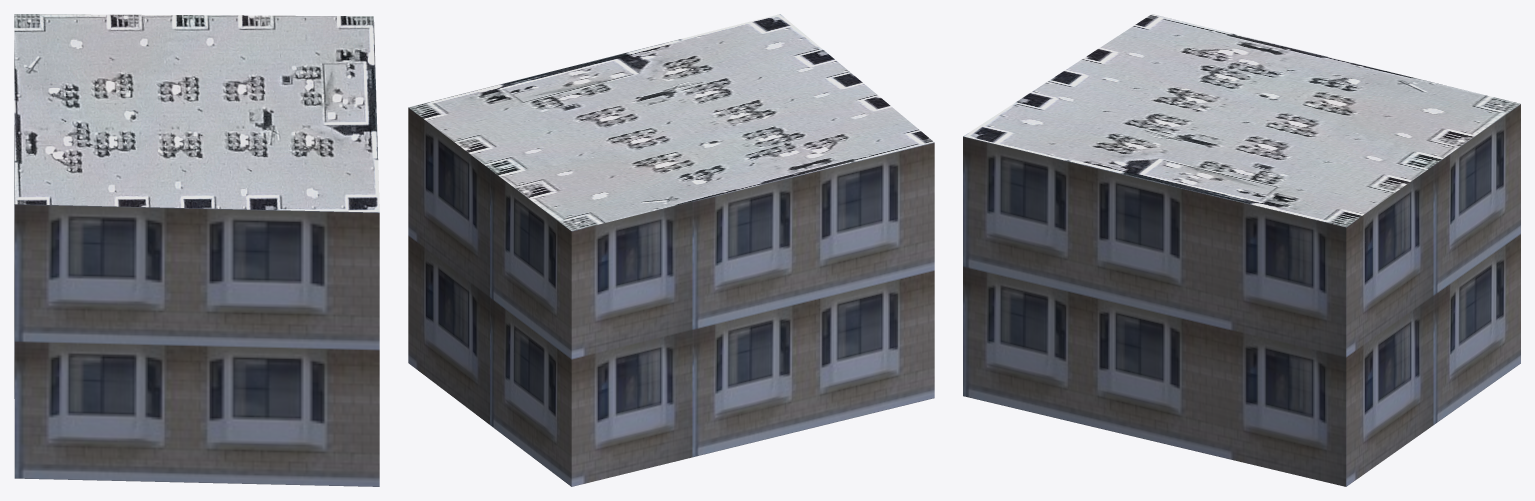
File: ResTex__4479.fbx
3 renders of one model, left to right at view 1: azimuth 30°, elevation 25°; view 2: azimuth 150°, elevation 25°; view 3: azimuth 270°, elevation 25°, orthographic. The views are drawn at different scales.
Visible parts, largest first — view 1: CityEngineMaterial_3_m, CityEngineMaterial_4_m; view 2: CityEngineMaterial_3_m, CityEngineMaterial_4_m; view 3: CityEngineMaterial_3_m, CityEngineMaterial_4_m.
Part boxes in pixels (left/top/right/bottom): CityEngineMaterial_3_m: left=14, top=125, right=379, bottom=486; CityEngineMaterial_4_m: left=14, top=14, right=379, bottom=212; CityEngineMaterial_3_m: left=408, top=107, right=934, bottom=486; CityEngineMaterial_4_m: left=409, top=14, right=934, bottom=230; CityEngineMaterial_3_m: left=963, top=104, right=1520, bottom=486; CityEngineMaterial_4_m: left=963, top=14, right=1520, bottom=226.
Bounding box in the file's own units: 10.57 × 6 × 11.68.
Materials: 2 (2 with a texture image).
